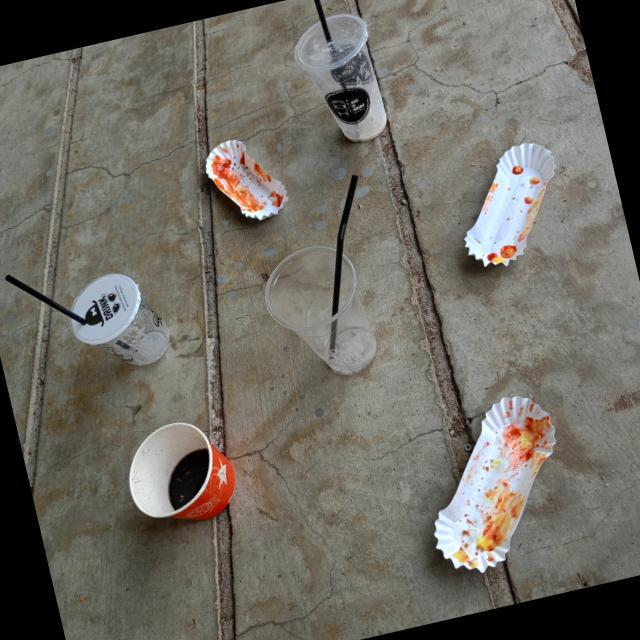recyclable waste: (382, 366, 610, 605), (236, 216, 413, 414), (427, 121, 595, 290), (269, 0, 434, 165), (101, 397, 262, 555), (47, 248, 187, 400), (170, 118, 306, 252)
